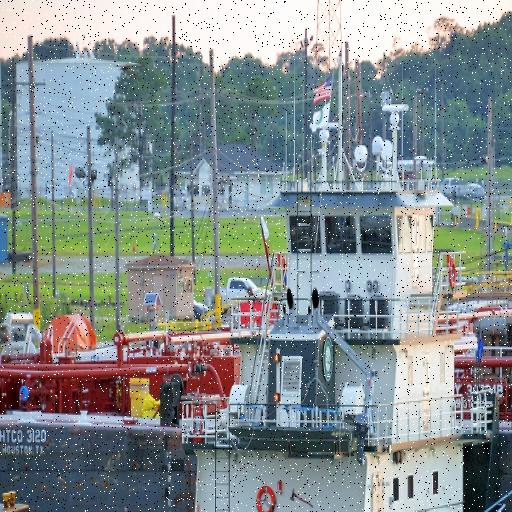tugboat: (111, 98, 512, 512)
